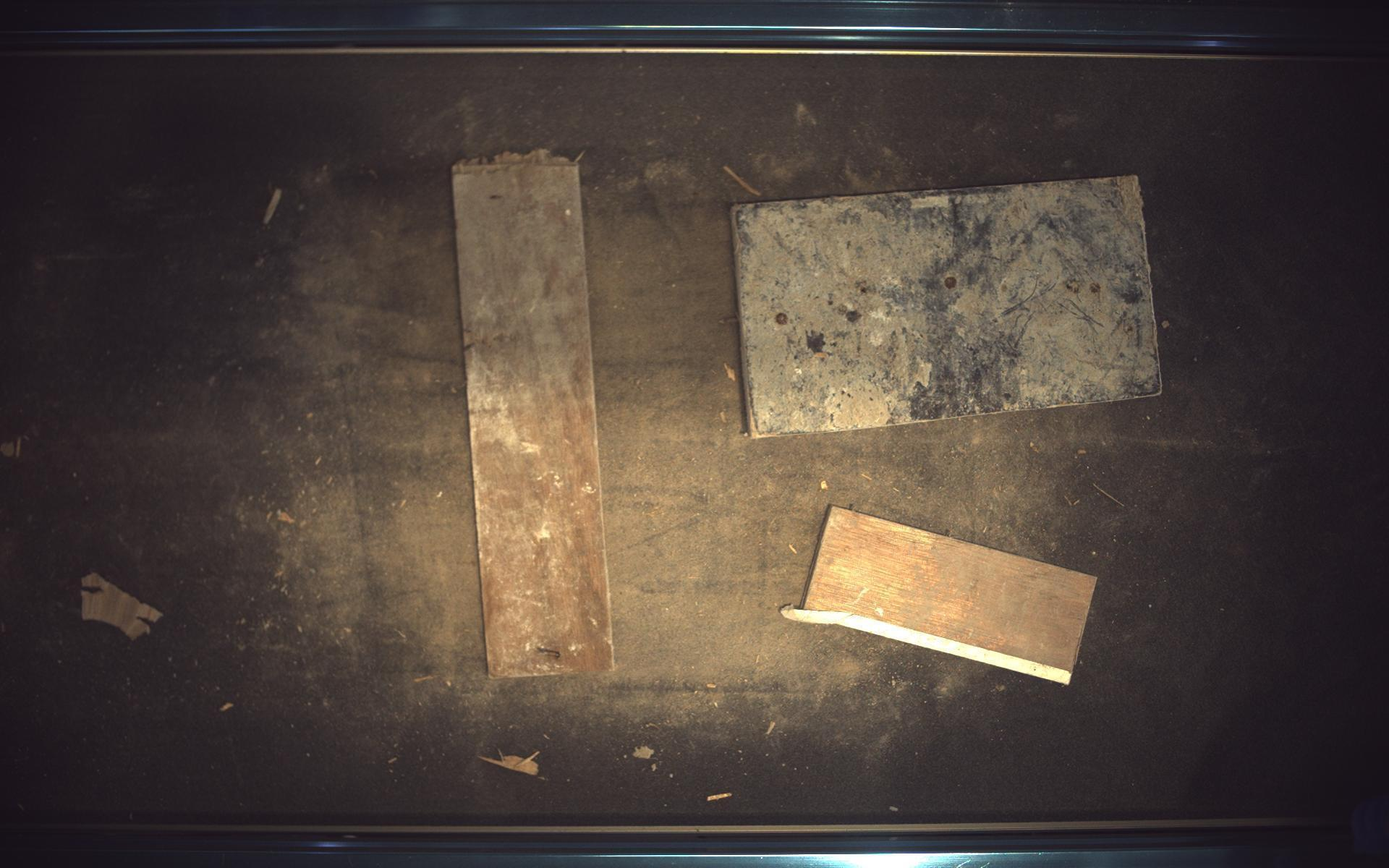wood: (733, 175, 1164, 438), (452, 149, 614, 678), (783, 506, 1099, 685)
